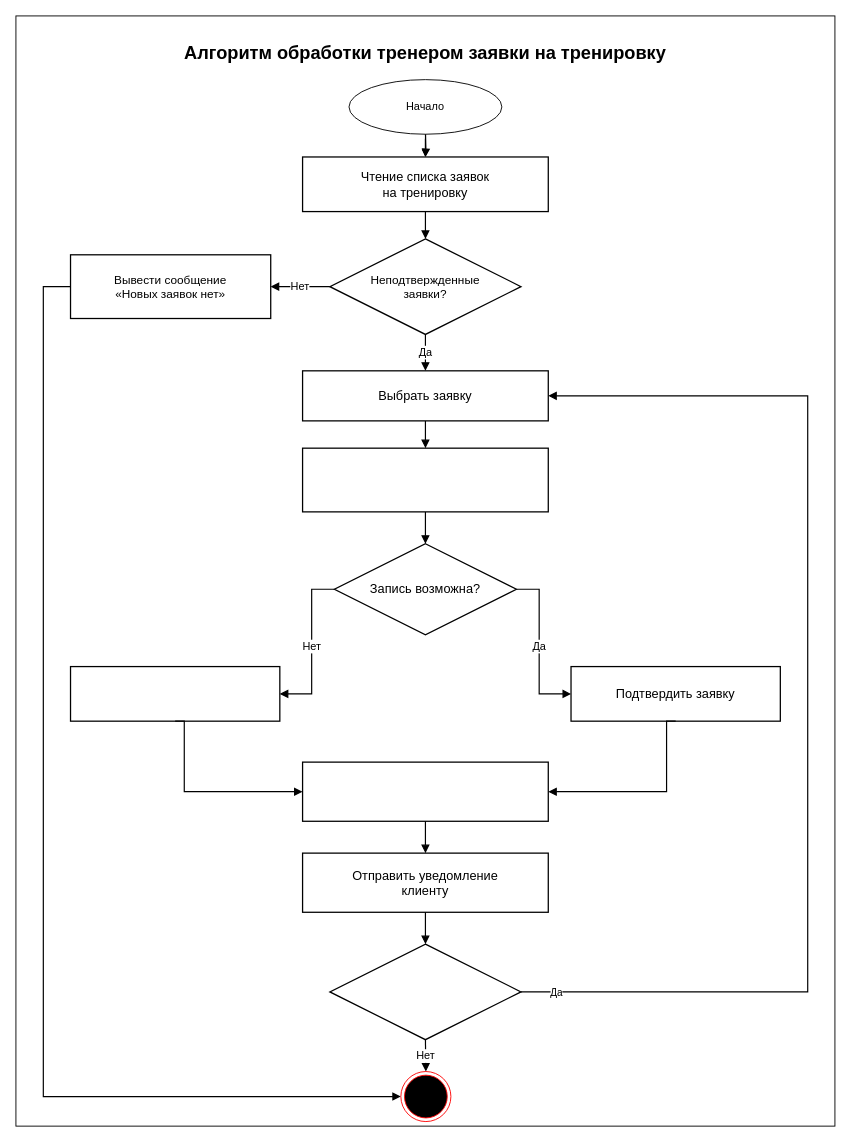
Image size: 851x1142. Some labels were removed from this diagram. Here are the shapes that lost their labels. From the top down, the centre of each, then its label:
At (x=424, y=479): "Просмотреть данные клиента, дату, время и выбранный слот".
At (x=174, y=693): "Отклонить заявку".
At (x=424, y=791): "Зафиксировать решение по заявке".
At (x=425, y=991): "Остались необработанные заявки?".
